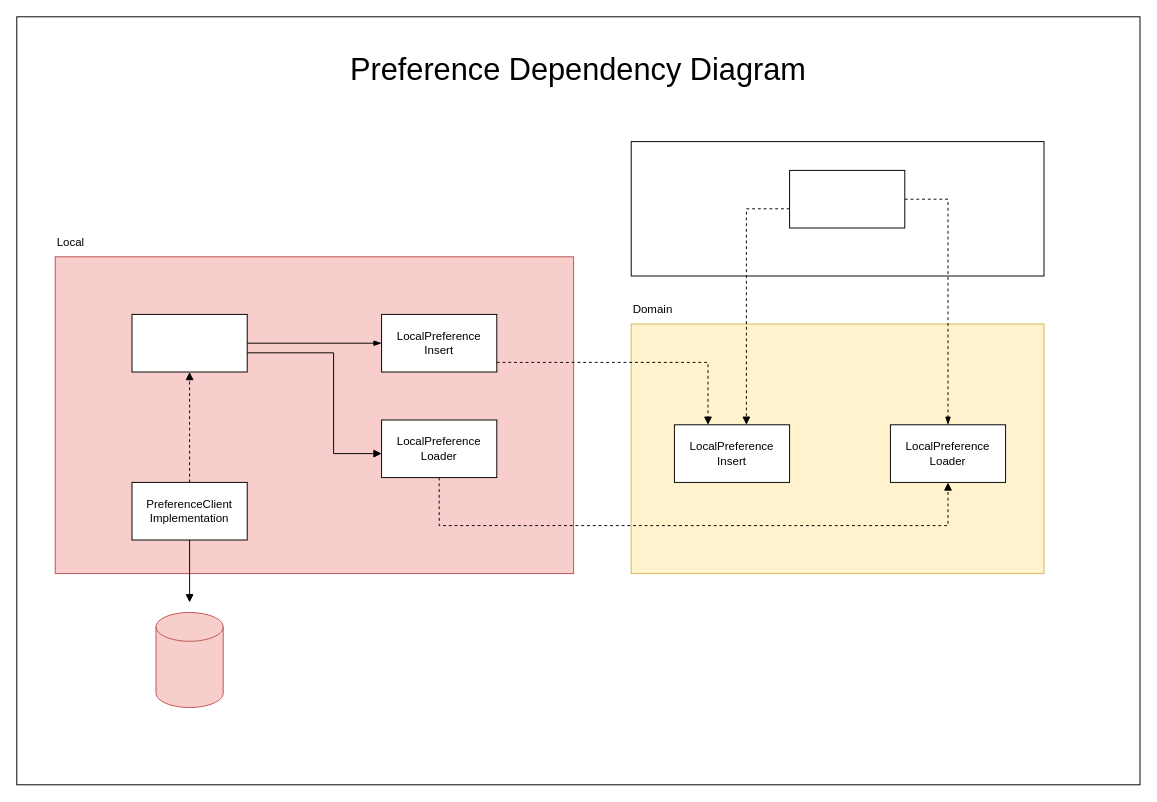
The diagram is 1157 pixels wide and 802 high, and some of its shapes have lost their labels. The box of each missing label's shape, as (x1, y1, x2, y2) in pixels:
Factory/Decorator: (789, 169, 905, 228)
PreferenceClient: (131, 313, 247, 372)
Shared Preference: (155, 612, 223, 708)
